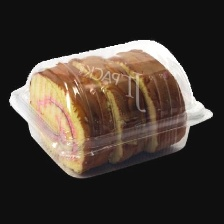plastic_box: (5, 29, 217, 184)
